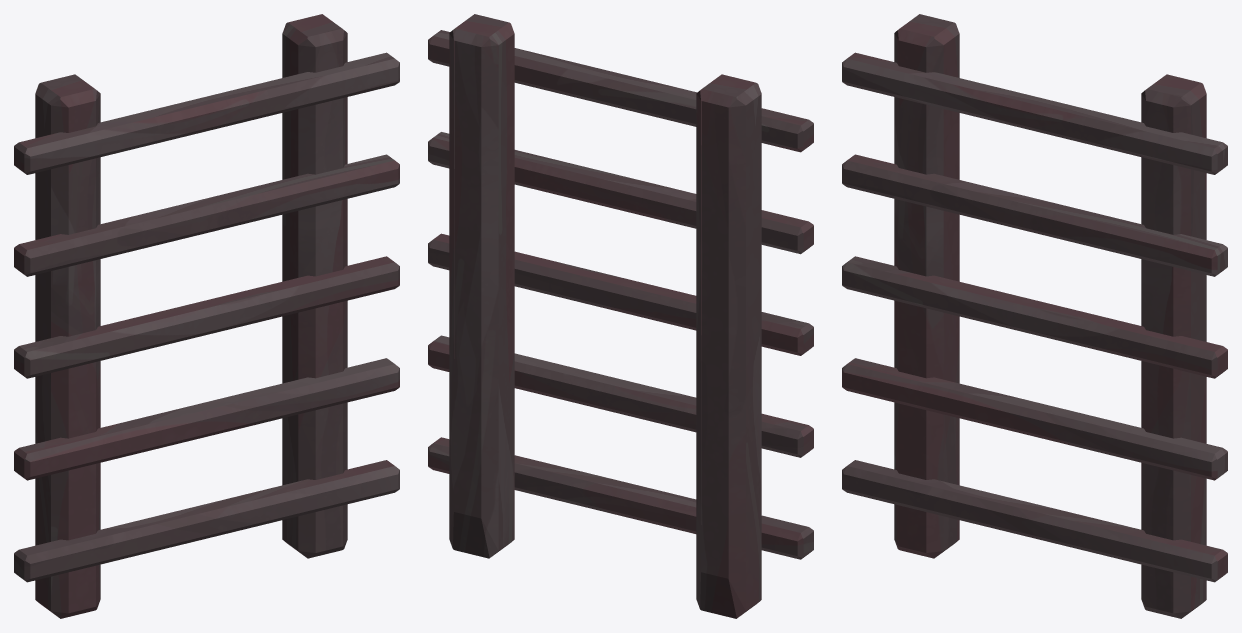
File: Ladder.fbx
3 renders of one model, left to right at view 1: azimuth 30°, elevation 25°; view 2: azimuth 150°, elevation 25°; view 3: azimuth 330°, elevation 25°, orthographic.
Parts seen in each view (by area): view 1: ladder; view 2: ladder; view 3: ladder.
Part boxes in pixels (left/top/right/bottom): ladder: left=14, top=14, right=399, bottom=618; ladder: left=428, top=14, right=813, bottom=618; ladder: left=842, top=14, right=1227, bottom=618.
Bounding box in the file's own units: 183 × 242 × 31.29.
